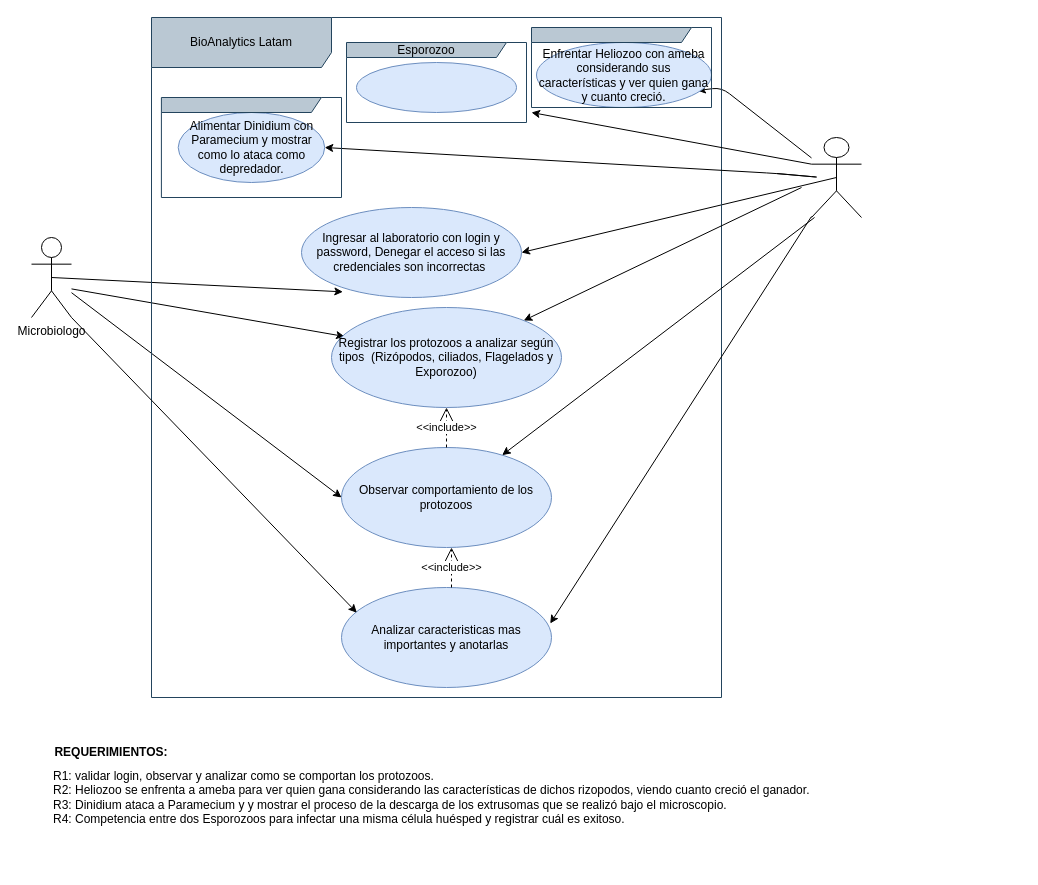
Image size: 1038x885. Some labels were removed from this diagram. The box of each missing label's shape, as (x1, y1, x2, y2) in pixels:
APP "BioAnalytics ": (810, 136, 862, 218)
Ciliados: (160, 96, 342, 198)
Competencia de esporozoos para ver quien infecta mas rapido: (356, 62, 516, 112)
Rizopodos: (530, 26, 712, 108)
